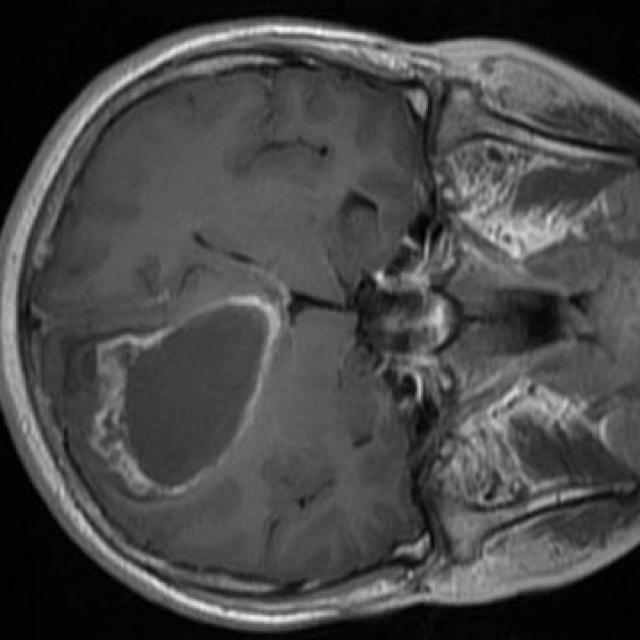glioma: (91, 294, 283, 497)
